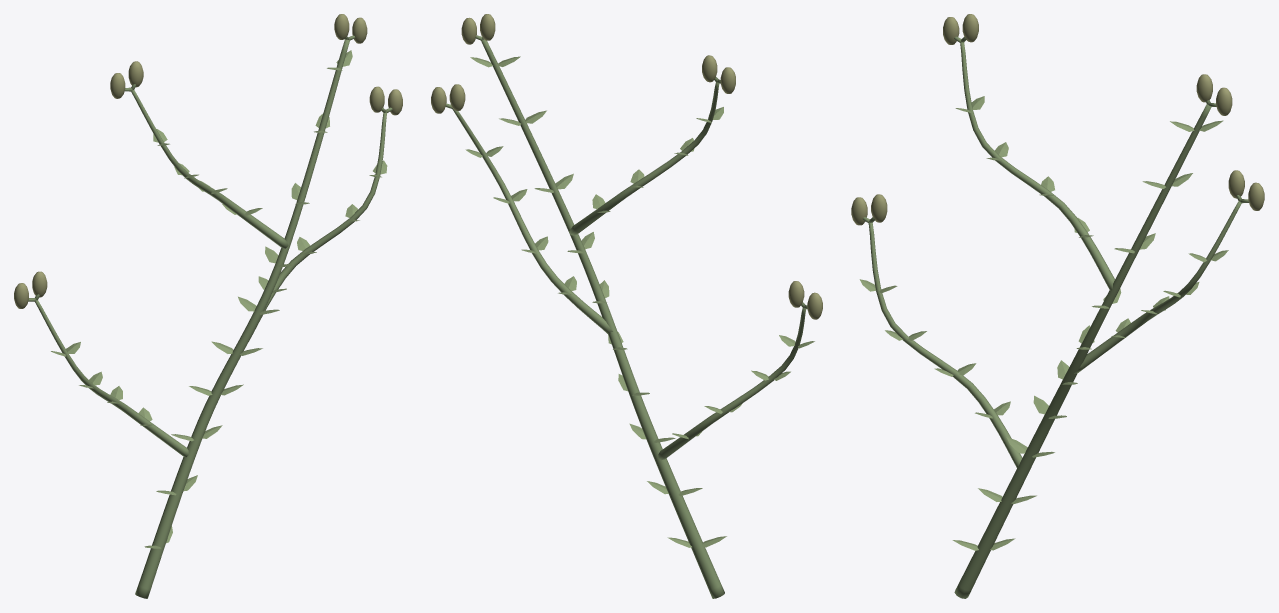
The model's file is montsechia.glb.
3 renders of one model, left to right at view 1: azimuth 30°, elevation 25°; view 2: azimuth 150°, elevation 25°; view 3: azimuth 330°, elevation 25°, orthographic. The views are drawn at different scales.
Parts seen in each view (by area): view 1: rootless-flexible-forking-shoots, small-simple-opposite-and-spiral-leaf-tabs, paired-terminal-ovoid-fruits; view 2: rootless-flexible-forking-shoots, small-simple-opposite-and-spiral-leaf-tabs, paired-terminal-ovoid-fruits; view 3: rootless-flexible-forking-shoots, small-simple-opposite-and-spiral-leaf-tabs, paired-terminal-ovoid-fruits.
Boxes of the visible parts, <box> form: rootless-flexible-forking-shoots: <box>28,35,392,598</box>; small-simple-opposite-and-spiral-leaf-tabs: <box>51,50,387,548</box>; paired-terminal-ovoid-fruits: <box>14,14,402,308</box>; rootless-flexible-forking-shoots: <box>445,35,807,598</box>; small-simple-opposite-and-spiral-leaf-tabs: <box>465,56,814,547</box>; paired-terminal-ovoid-fruits: <box>431,14,822,319</box>; rootless-flexible-forking-shoots: <box>862,36,1248,598</box>; small-simple-opposite-and-spiral-leaf-tabs: <box>859,96,1228,550</box>; paired-terminal-ovoid-fruits: <box>851,14,1264,225</box>.
Size of the model in its own units: 0.1131 by 0.15 by 0.0194.
